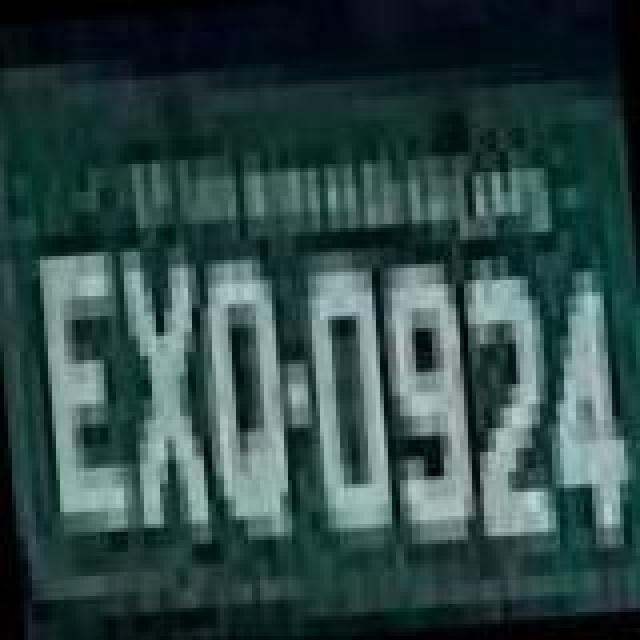2: (460, 260, 564, 560)
4: (540, 268, 640, 552)
9: (372, 254, 484, 558)
E: (34, 244, 142, 540)
O: (302, 250, 402, 554)
Q: (192, 250, 304, 554)
X: (116, 240, 220, 552)
